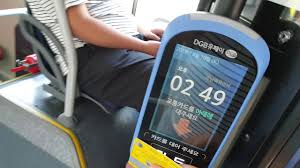terminal: (126, 10, 274, 168)
